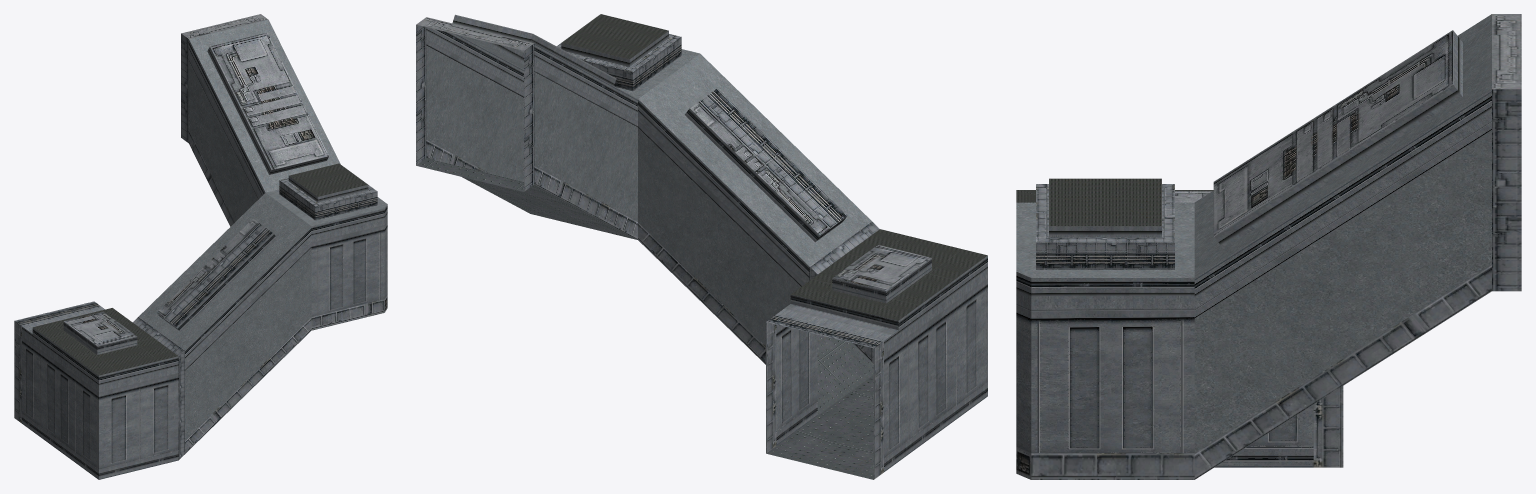
Rendered from poi_all_impl_bunker_s01_r4_ramp1_mesh_r4.fbx.
3 renders of one model, left to right at view 1: azimuth 30°, elevation 25°; view 2: azimuth 150°, elevation 25°; view 3: azimuth 270°, elevation 25°, orthographic. The views are drawn at different scales.
Visible parts, largest first — view 1: mesh_node; view 2: mesh_node; view 3: mesh_node.
Boxes of the visible parts, x1,y1,x2,y2 form: mesh_node: (14,14,387,479); mesh_node: (416,14,987,479); mesh_node: (1016,14,1521,479).
Size of the model in its own units: 11 by 10.75 by 8.5.
